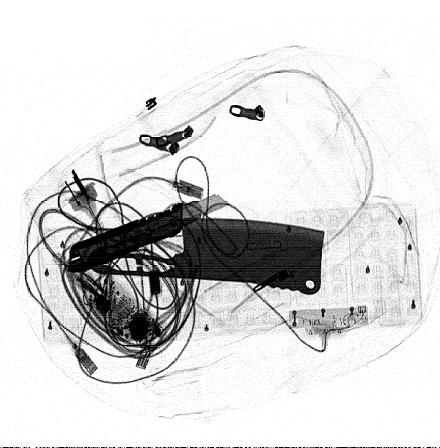Knife: (89, 219, 325, 296), (66, 192, 230, 273)
